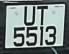1: (37, 25, 47, 48)
3: (43, 24, 59, 48)
5: (11, 26, 27, 50), (25, 25, 39, 49)
T: (36, 4, 51, 28)
U: (22, 4, 37, 29)
